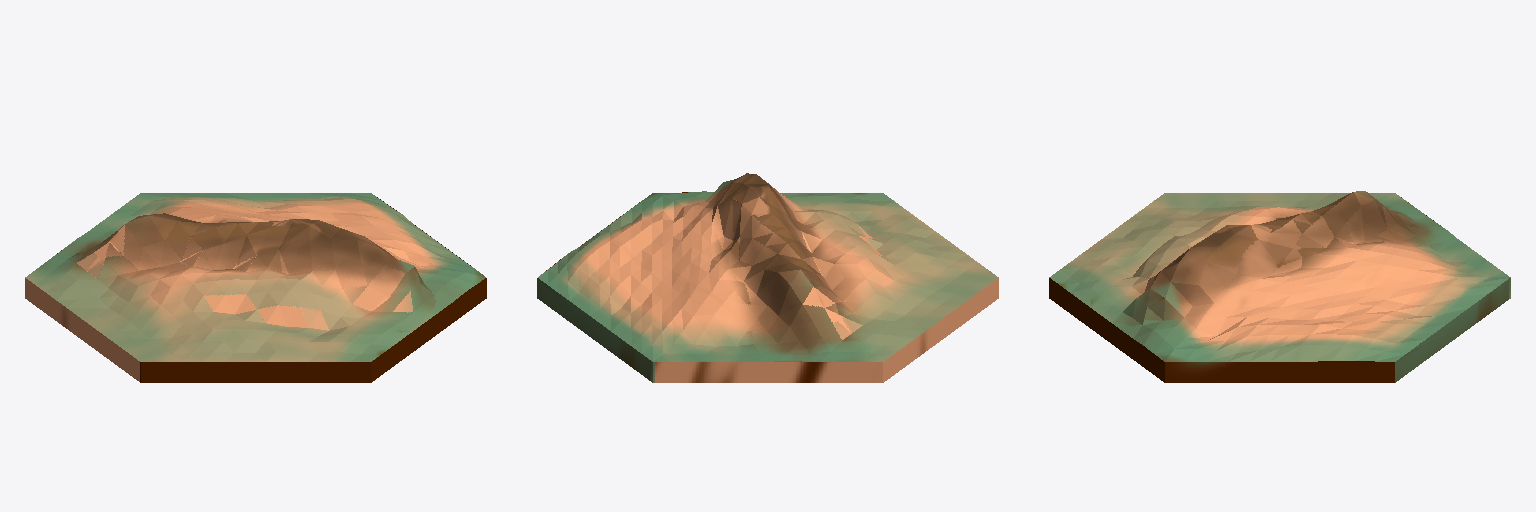
3 views of the same model, side by side, from view 1: azimuth 30°, elevation 25°; view 2: azimuth 150°, elevation 25°; view 3: azimuth 270°, elevation 25° (orthographic).
Parts seen in each view (by area): view 1: Cylinder; view 2: Cylinder; view 3: Cylinder.
Boxes of the visible parts, x1=… form: Cylinder: x1=25, y1=193, x2=486, y2=382; Cylinder: x1=537, y1=173, x2=998, y2=382; Cylinder: x1=1049, y1=191, x2=1510, y2=382.
Bounding box in the file's own units: 1.73 × 0.4138 × 2.
1 materials, 1 textured.